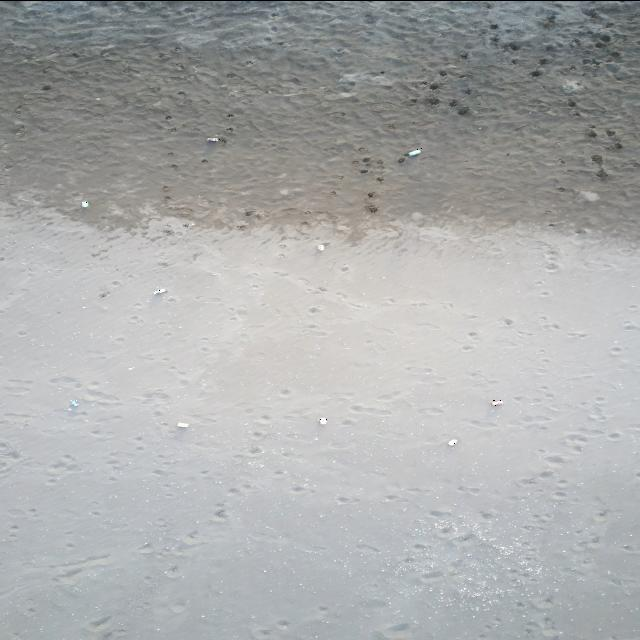Garbage: (563, 79, 583, 91), (580, 191, 599, 200), (207, 136, 224, 143), (407, 147, 420, 156), (152, 288, 166, 295), (68, 399, 77, 408), (492, 399, 502, 406), (316, 243, 324, 251), (319, 416, 327, 424), (447, 439, 456, 446), (176, 422, 188, 427), (80, 200, 88, 207), (207, 136, 218, 141), (397, 156, 404, 163)
